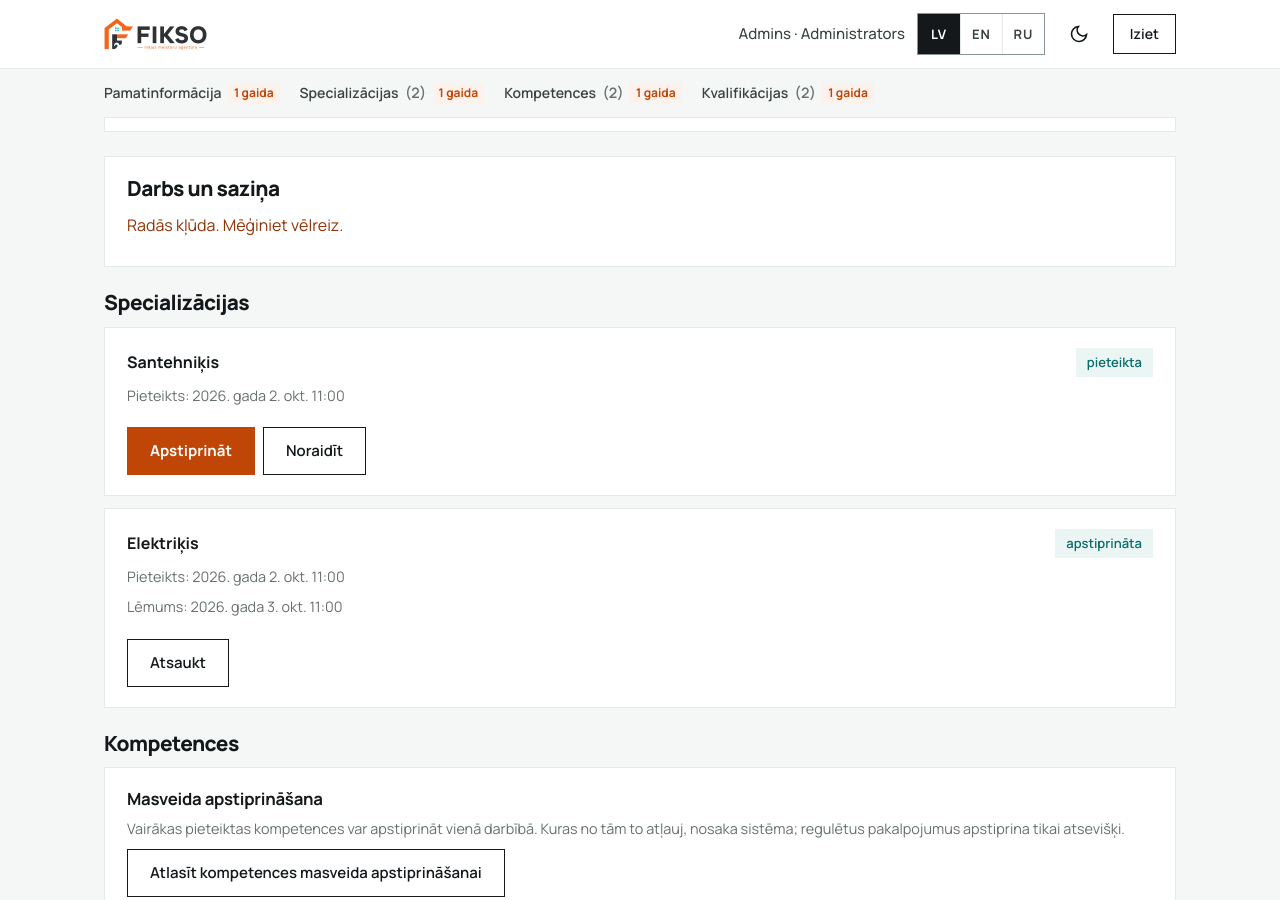
it: master card: decisions › specialisation approve posts only expected_version
The width and height of the screenshot is (1280, 900).
(page scrolled)
Click the button with aria-label "Apstiprināt: Santehniķis".
click(191, 451)  # box [127,427,255,475]
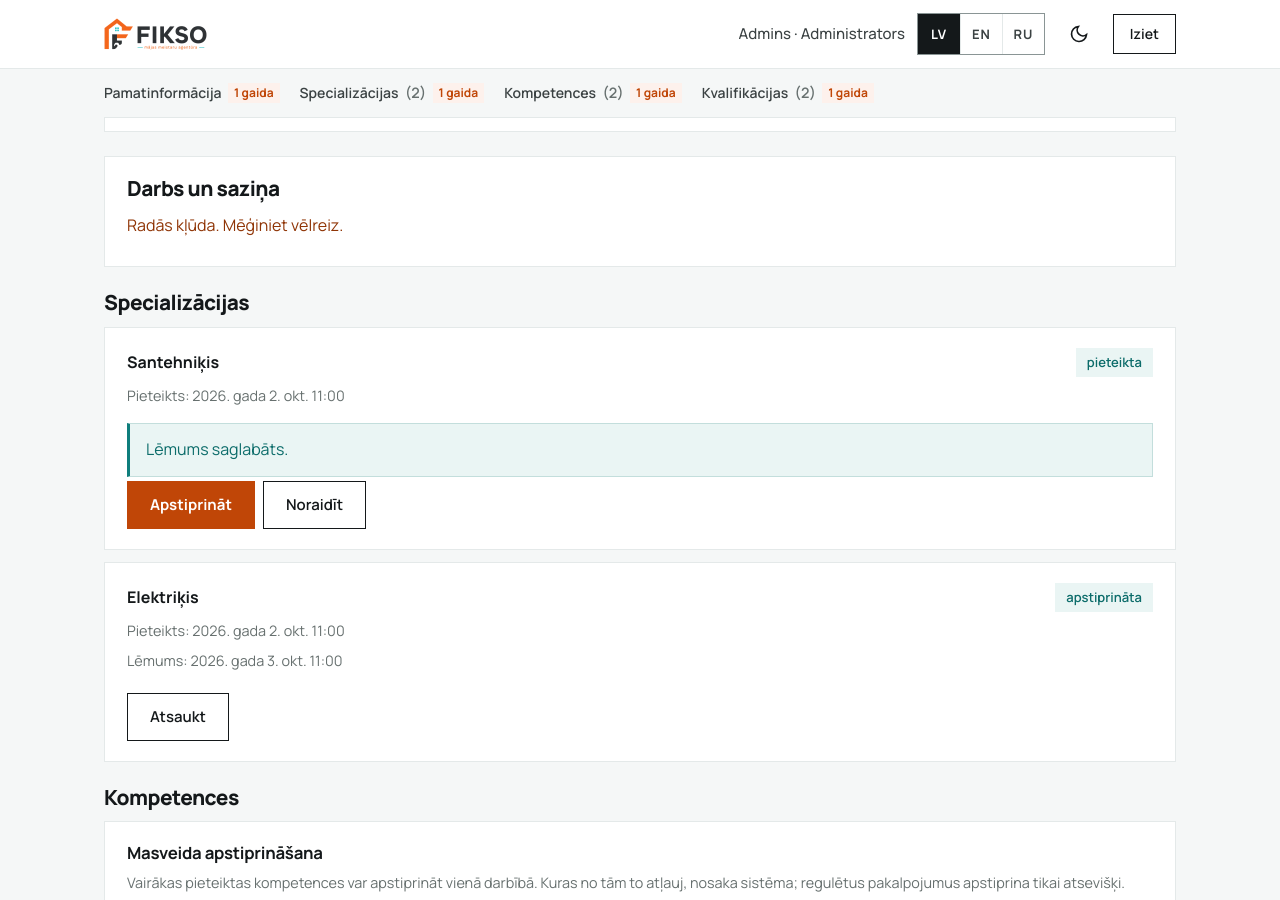
Expected: the text "Lēmums saglabāts." is shown, [127,423,1153,477]
